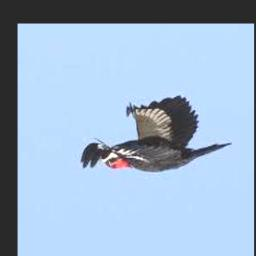Woodpecker: (81, 95, 233, 173)
